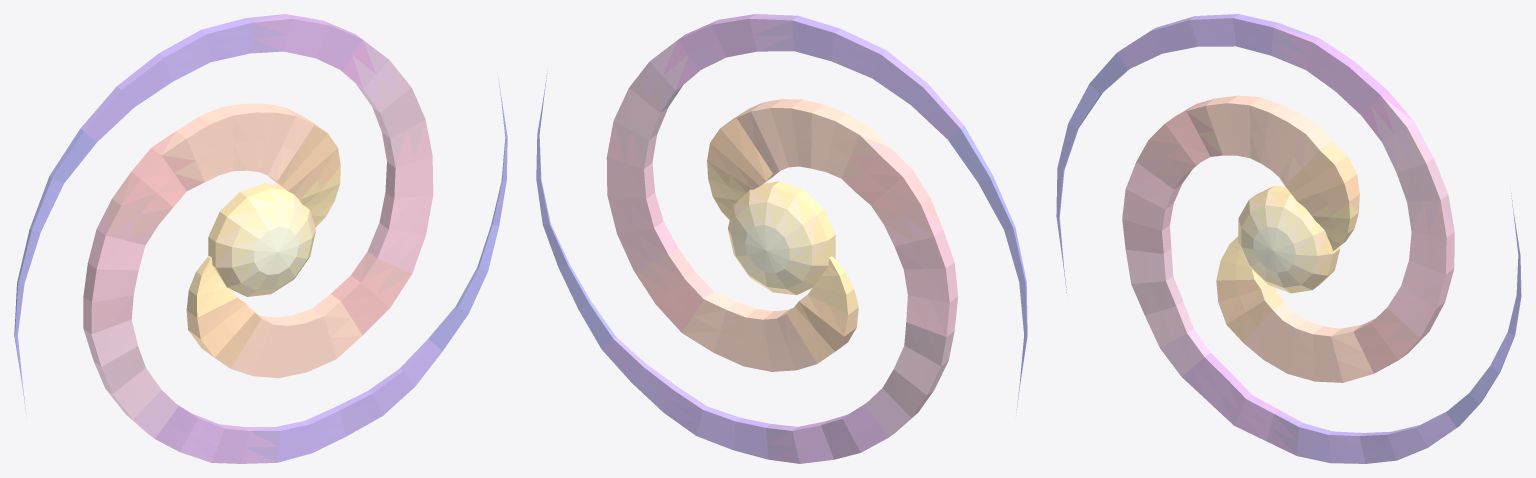
File: galaxy-003.glb
3 renders of one model, left to right at view 1: azimuth 30°, elevation 25°; view 2: azimuth 150°, elevation 25°; view 3: azimuth 330°, elevation 25°, orthographic. The views are drawn at different scales.
Parts seen in each view (by area): view 1: galaxy-003; view 2: galaxy-003; view 3: galaxy-003.
Boxes of the visible parts, x1,y1,x2,y2 form: galaxy-003: [14, 14, 507, 463]; galaxy-003: [536, 14, 1027, 463]; galaxy-003: [1056, 14, 1521, 463].
Size of the model in its own units: 172 by 149 by 19.87.
